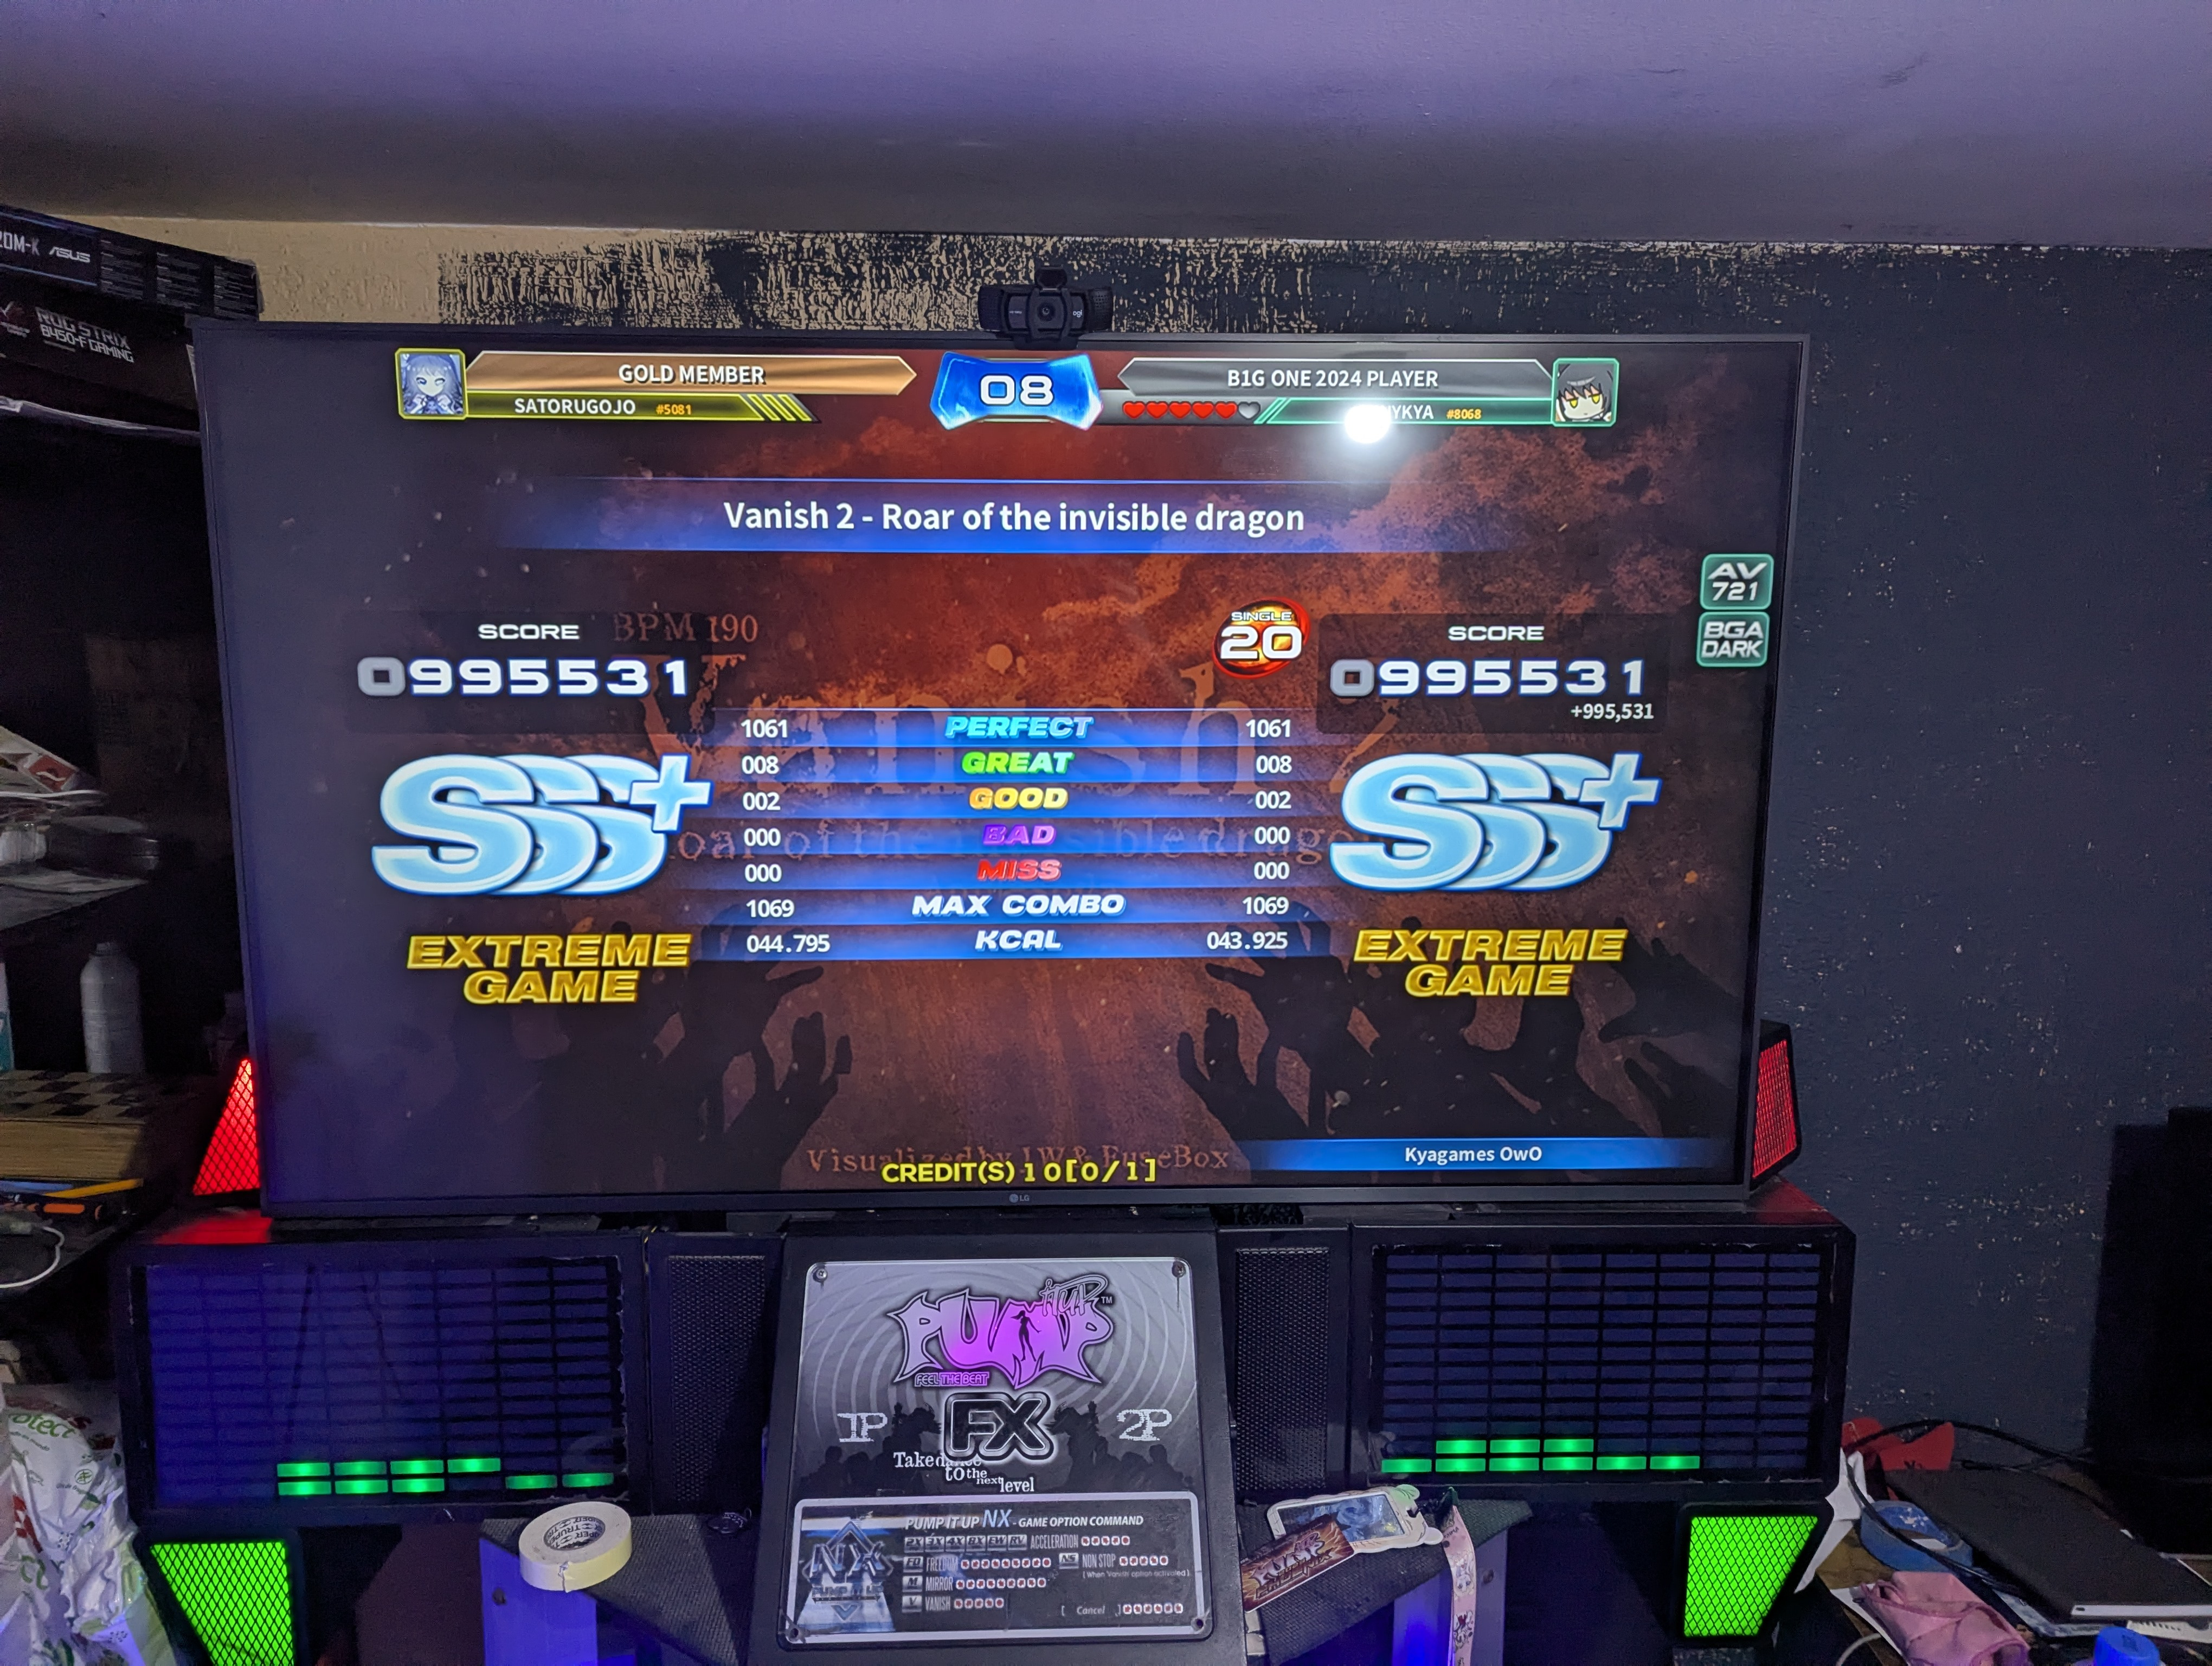difficulty: (1229, 588, 1299, 670)
fullscore: (747, 340, 1763, 1181)
rank: (1329, 746, 1630, 905)
score: (1296, 604, 1682, 733)
song_name: (726, 469, 1373, 569)
